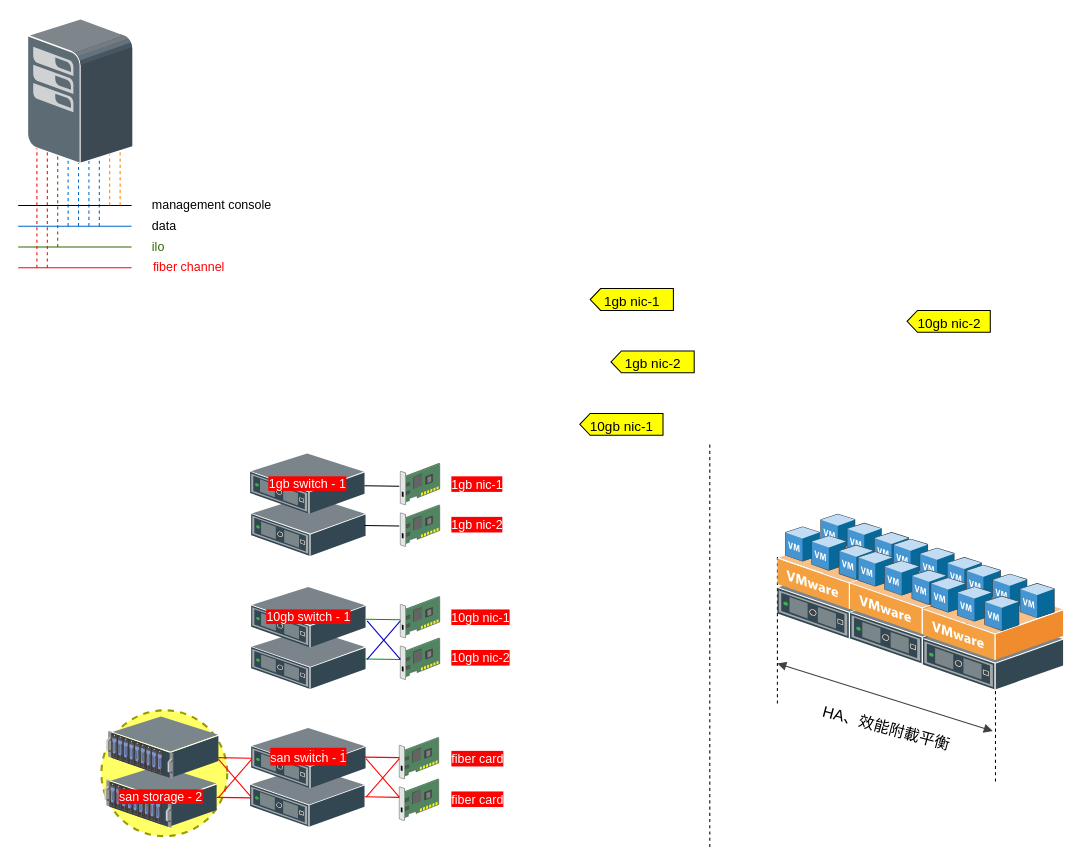
Some shapes in this 1082 by 868 pixel diagram are drawn without their labels. Here are the shapes that lost their labels. From the top down, the centre of each, then its label:
At [308,525]: "1gb switch - 2".
At [308,658]: "10gb switch - 2".
At [161,747]: "san storage - 1".
At [307,796]: "san switch - 2".
